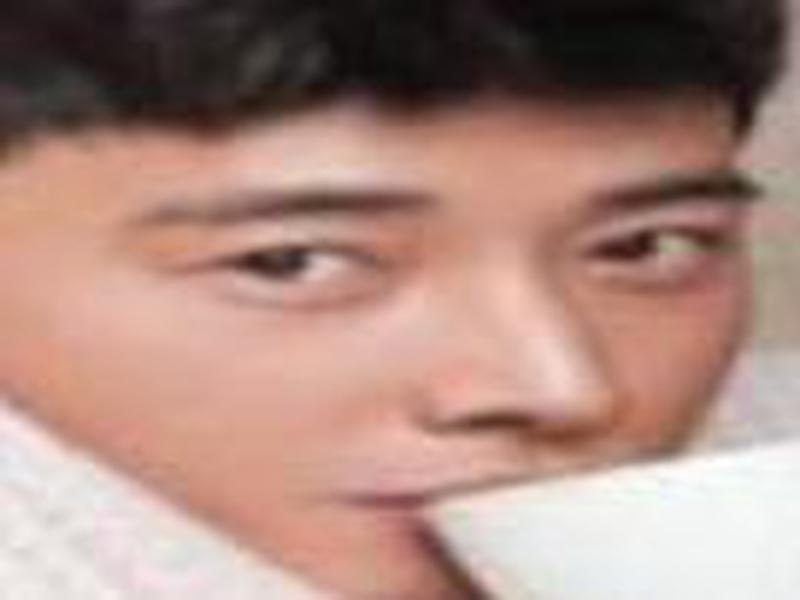without_mask: (10, 89, 749, 600)
